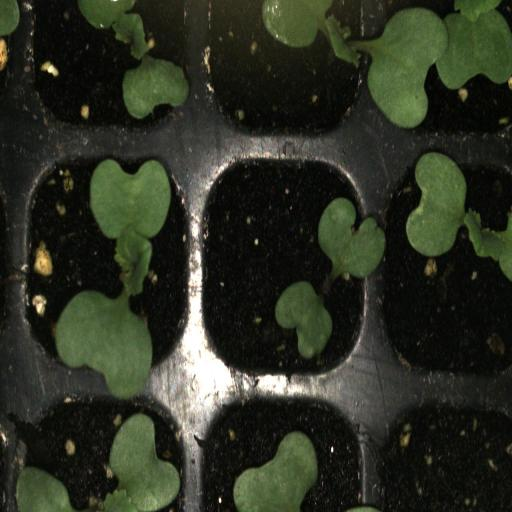Folha: (233, 431, 318, 512), (318, 197, 386, 280), (275, 281, 332, 359), (15, 466, 75, 512)
Germinacao: (194, 142, 375, 392), (18, 134, 190, 378), (375, 139, 512, 394), (195, 0, 375, 145), (23, 0, 191, 137), (13, 386, 188, 512), (381, 0, 512, 144)
